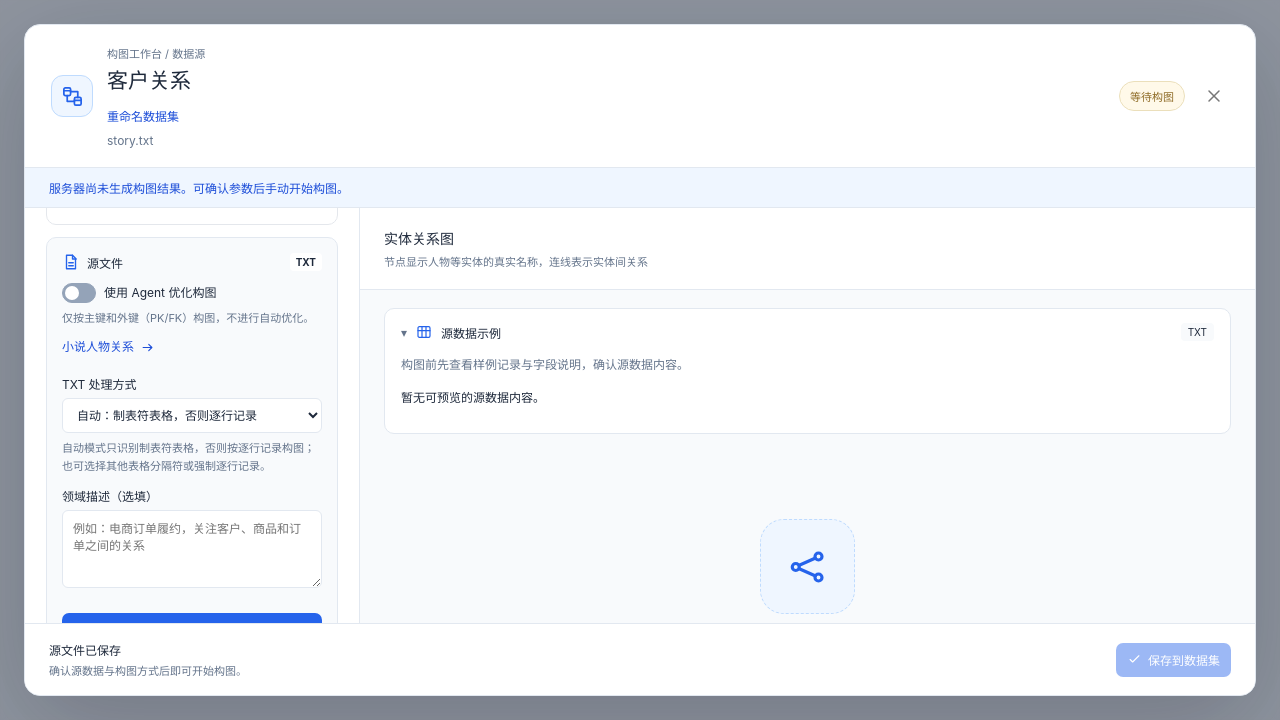
Scenario: long-running graph construction › rejects protocol delimiters in TXT entity categories: 人物|组织
(page scrolled)
Select "智能抽取实体与关系（LLM）" in the dropdown labelled "TXT 处理方式" at (192, 416), box left=62, top=398, right=322, bottom=433
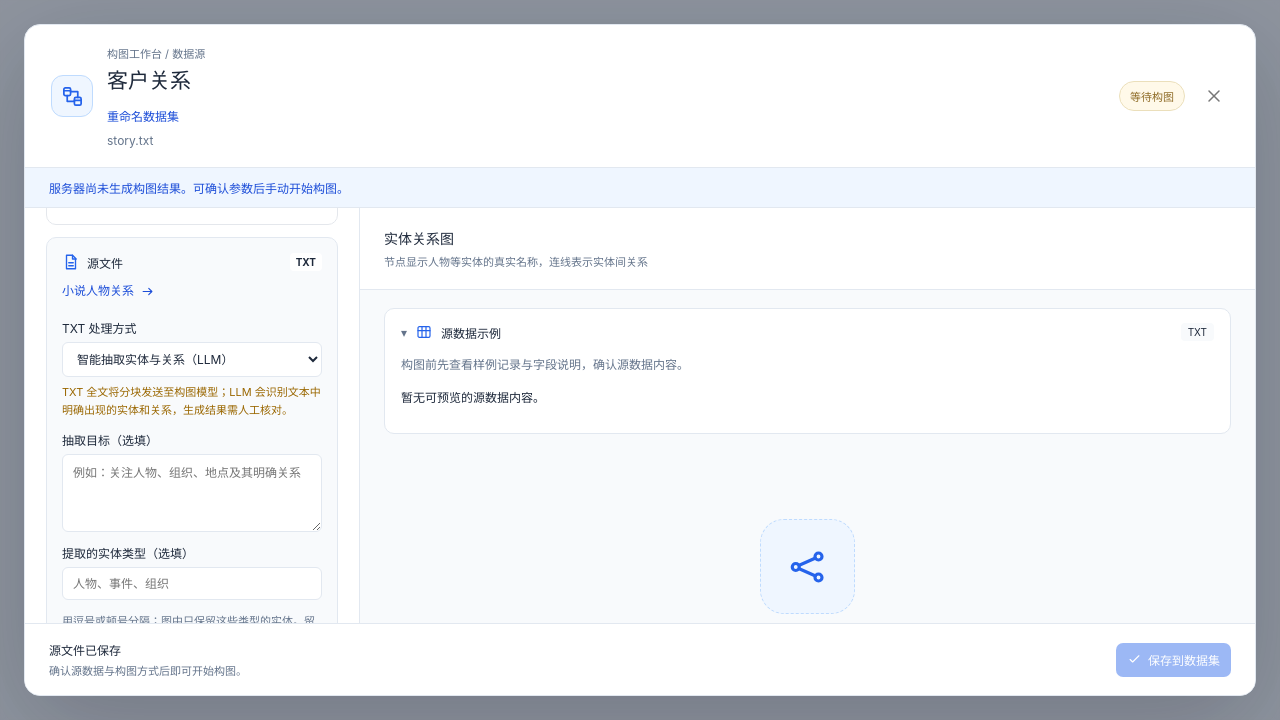
Type "人物|组织" into the field labelled "提取的实体类型（选填）".
click(192, 584); type("人物|组织")  # box left=62, top=567, right=322, bottom=600
(page scrolled)
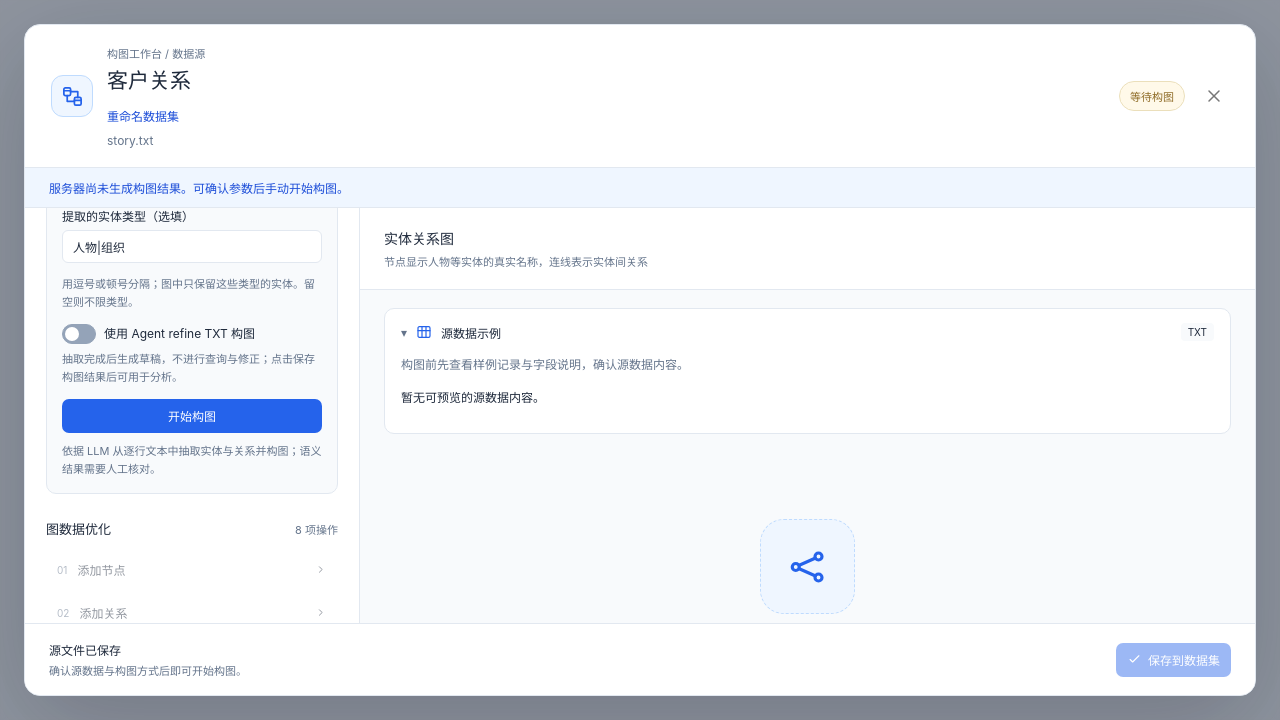
Click the button "开始构图".
click(192, 416)  # box left=62, top=399, right=322, bottom=433
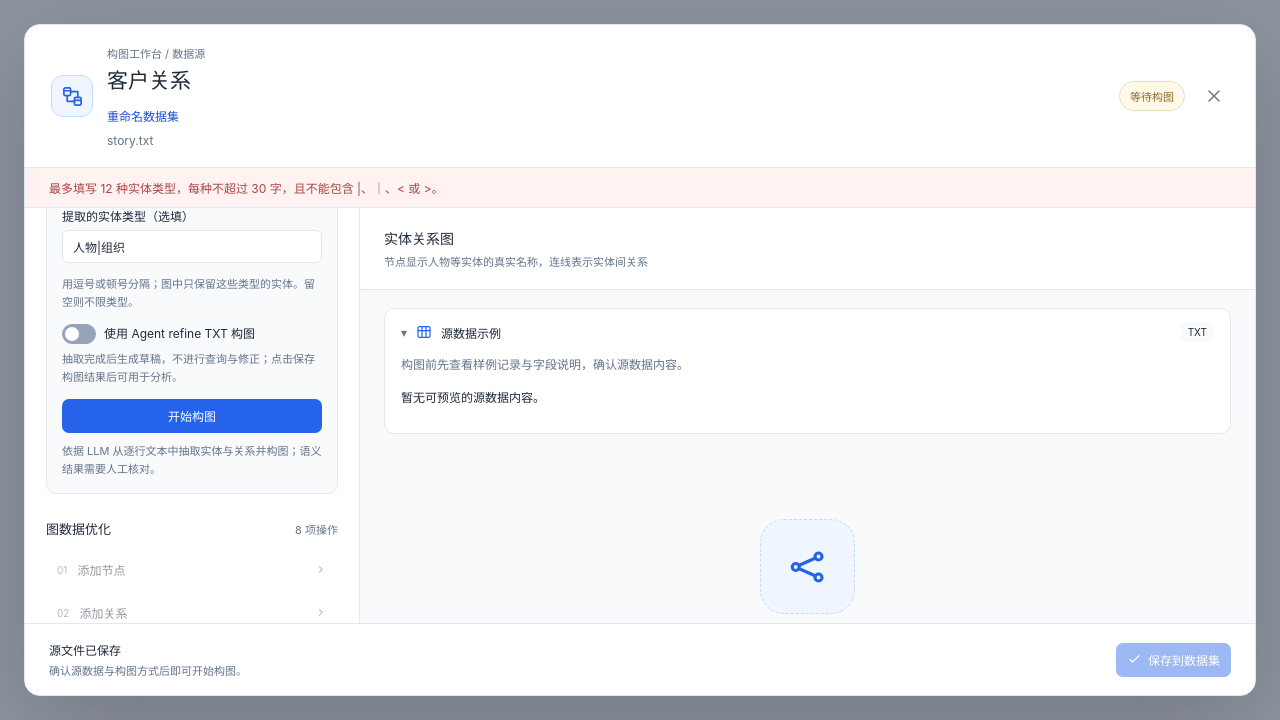
Now the text "最多填写 12 种实体类型，每种不超过 30 字，且不能包含 |、｜、< 或 >。" is shown, box left=49, top=179, right=444, bottom=196
